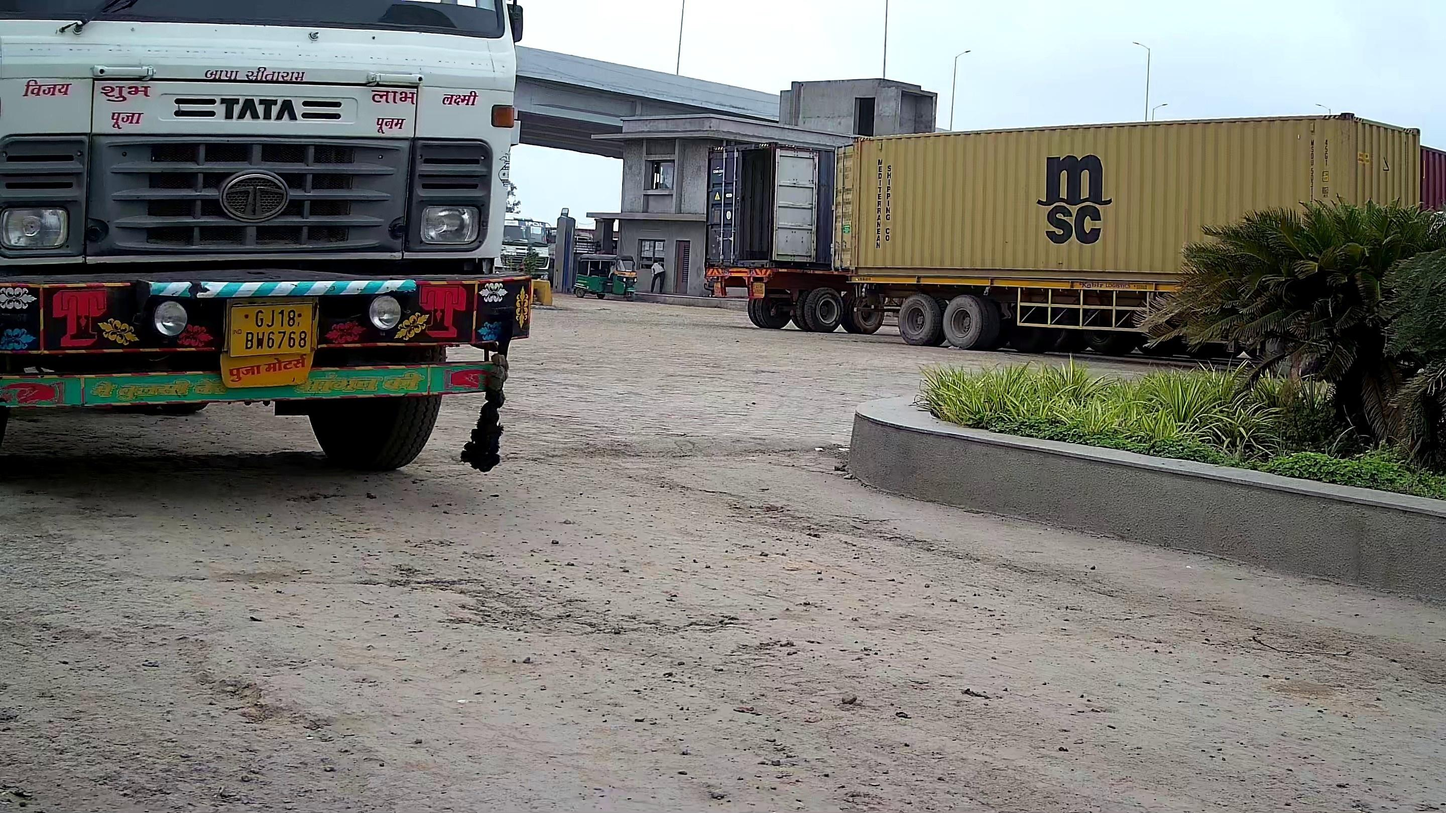License plate: (230, 303, 314, 358)
